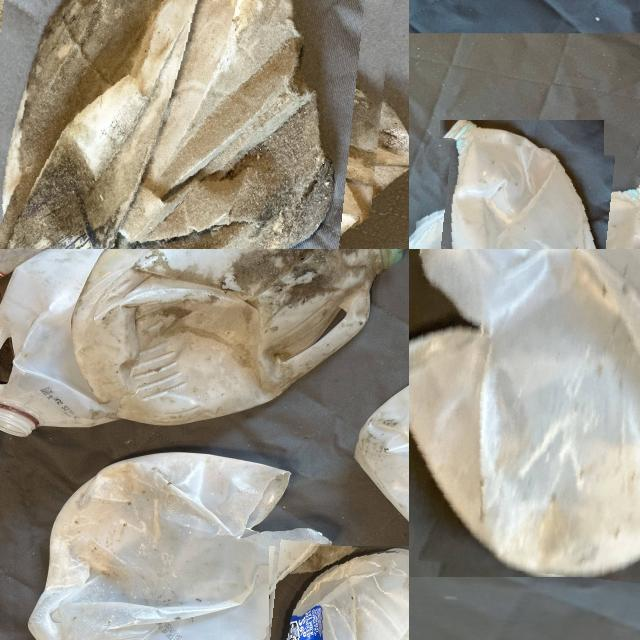milk-jug: (0, 0, 386, 249), (409, 249, 640, 587), (64, 249, 403, 425), (26, 456, 300, 640), (0, 249, 124, 447), (409, 141, 635, 249), (354, 351, 409, 618), (257, 544, 409, 640)
